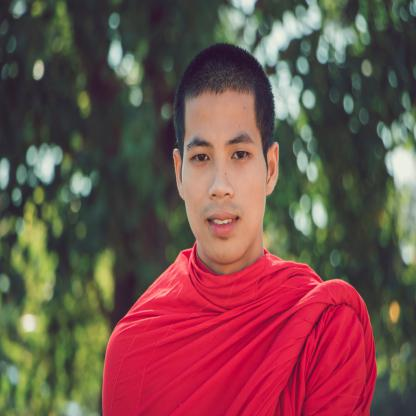Eye: (229, 145, 255, 167), (186, 147, 210, 168)
Mouth: (205, 210, 242, 238)
Nose: (209, 159, 236, 202)
